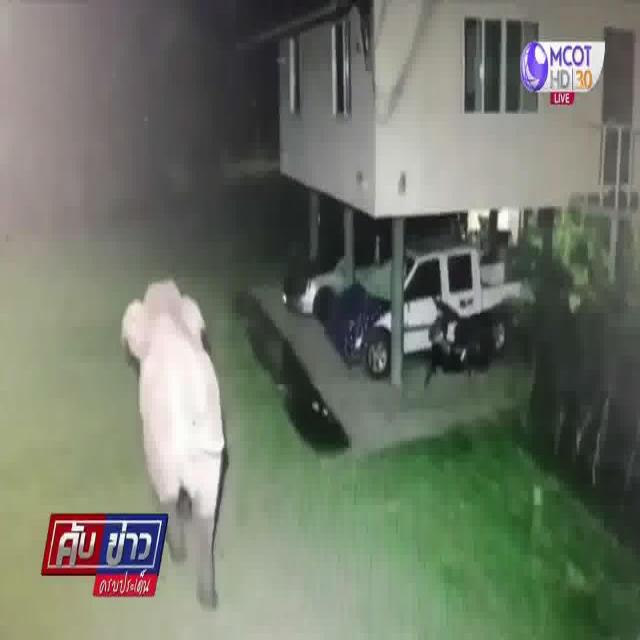Elephant: (119, 273, 226, 506)
